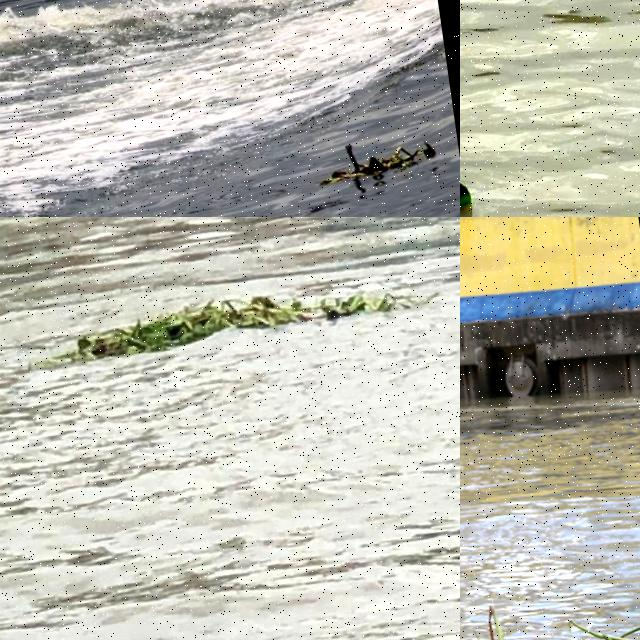water-hyacinth: (56, 266, 426, 373), (321, 126, 437, 194)
